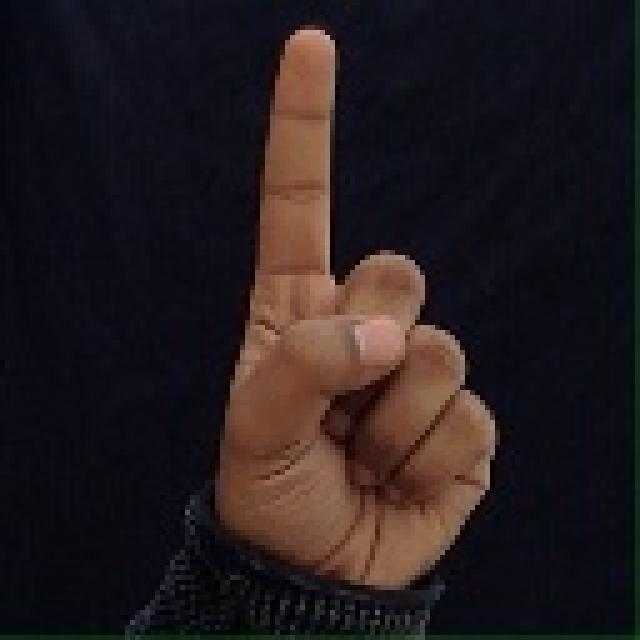Numeric-1: (224, 24, 499, 606)
